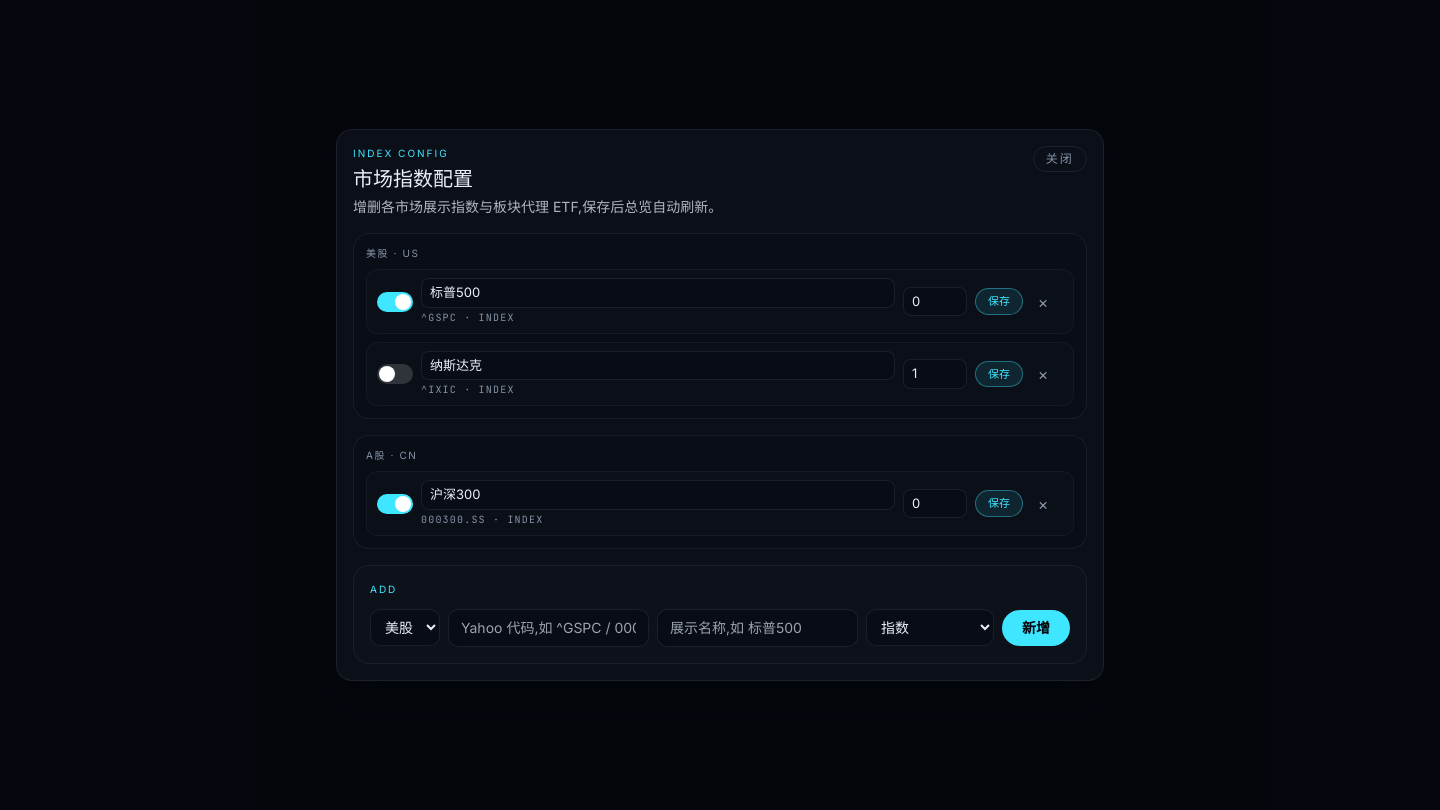
Test: MarketIndexConfigModal › blocks add submit when symbol or display name is empty
Click the button "新增": coordinates (1036, 628) [1002,610,1070,646]
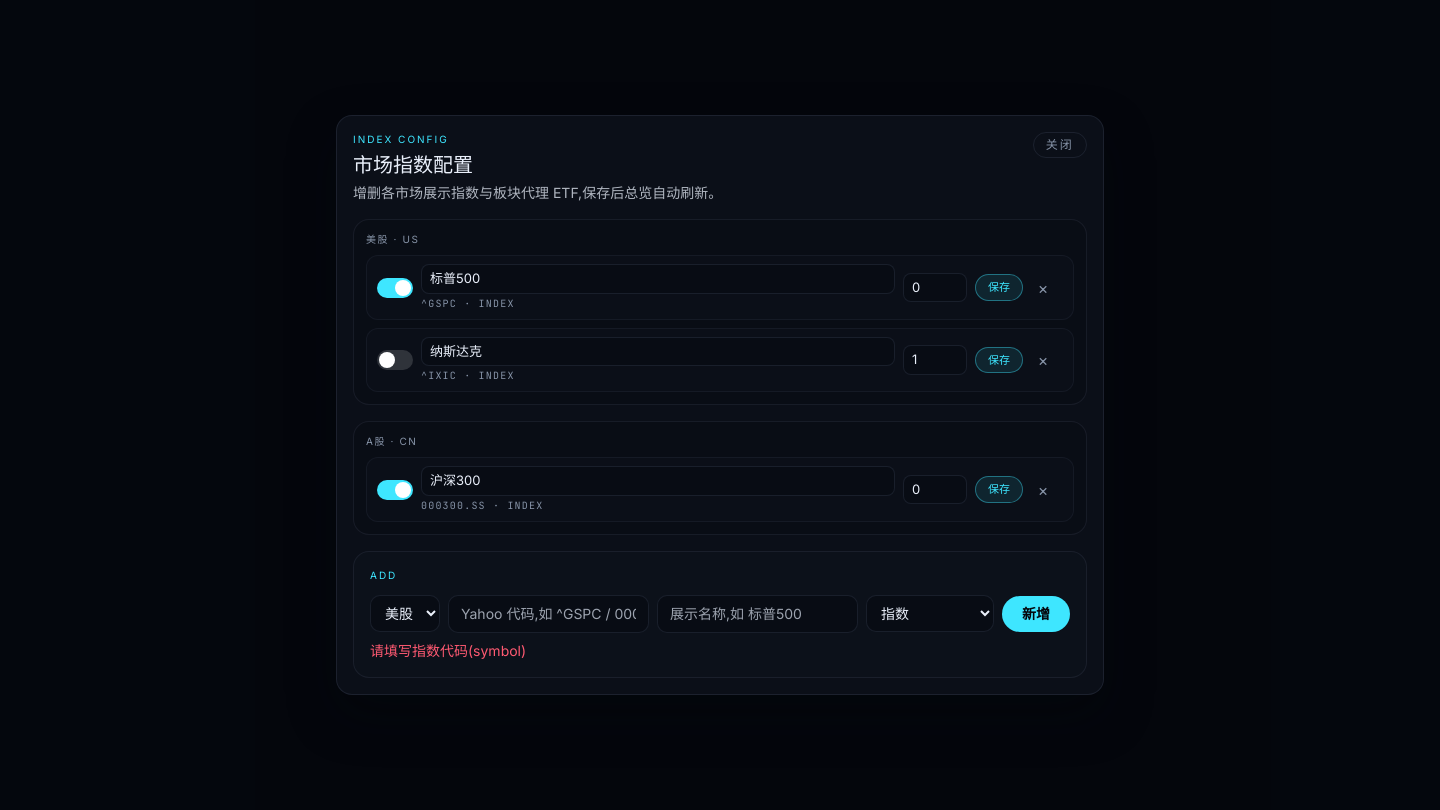
Now the text "请填写指数代码(symbol)" is shown, box [370,642,526,659]
In the field with placeholder "Yahoo 代码,如 ^GSPC / 000300.SS": coordinates (548, 614) [448,595,649,633], type "^NDX"
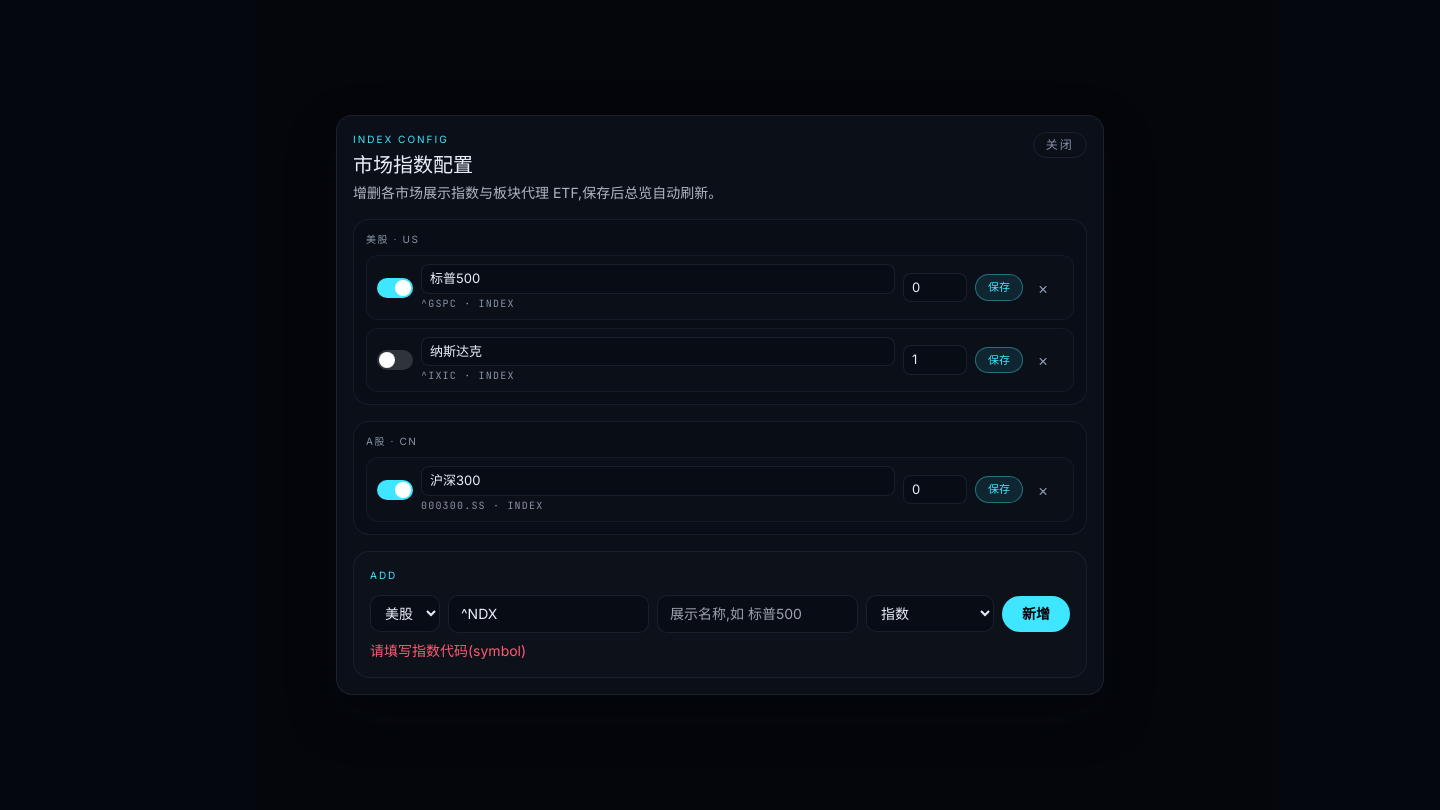
Click the button "新增": coordinates (1036, 614) [1002,596,1070,632]
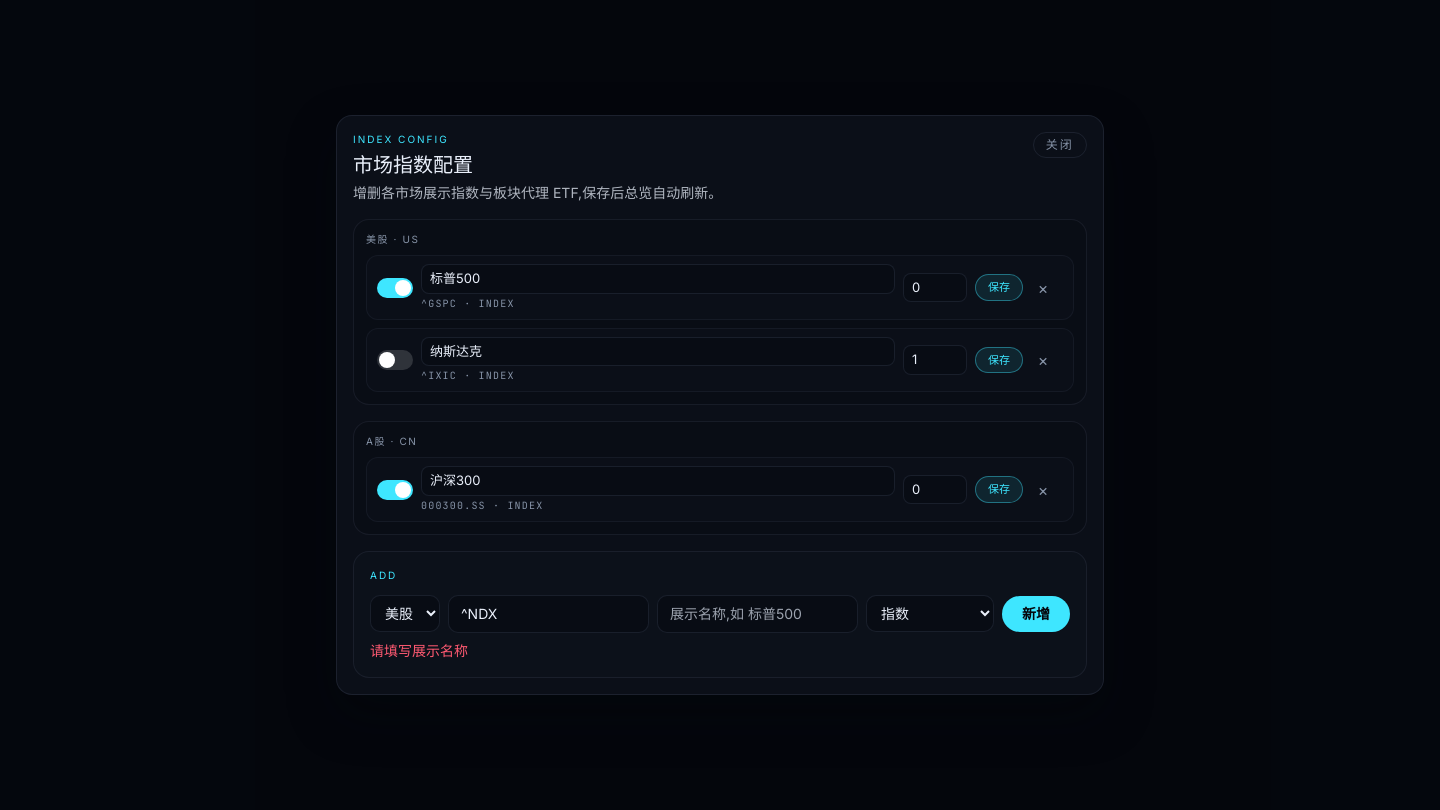
Now the text "请填写展示名称" is shown, box [370,642,468,659]
